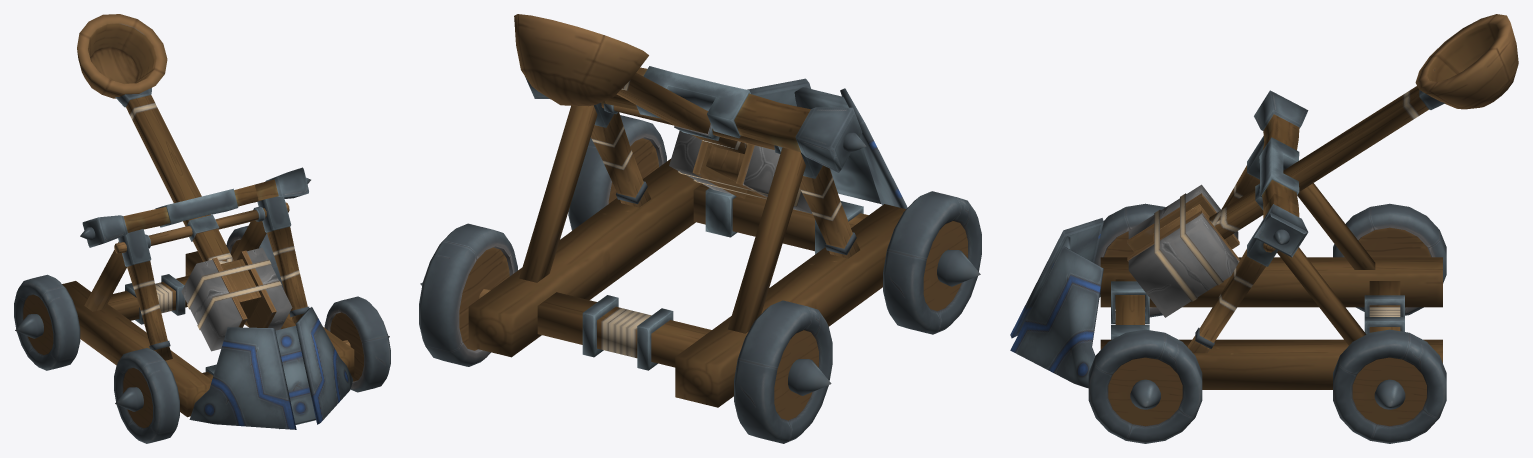
File: PR_Catapult_GLTF.gltf
3 views of the same model, side by side, from view 1: azimuth 30°, elevation 25°; view 2: azimuth 150°, elevation 25°; view 3: azimuth 270°, elevation 25° (orthographic). The views are drawn at different scales.
Parts seen in each view (by area): view 1: PR_Catapult; view 2: PR_Catapult; view 3: PR_Catapult.
Part boxes in pixels (left/top/right/bottom): PR_Catapult: left=14, top=14, right=390, bottom=443; PR_Catapult: left=419, top=14, right=981, bottom=443; PR_Catapult: left=1010, top=14, right=1518, bottom=443.
Bounding box in the file's own units: 3.44 × 3.45 × 4.5.
1 material, 1 textured.
